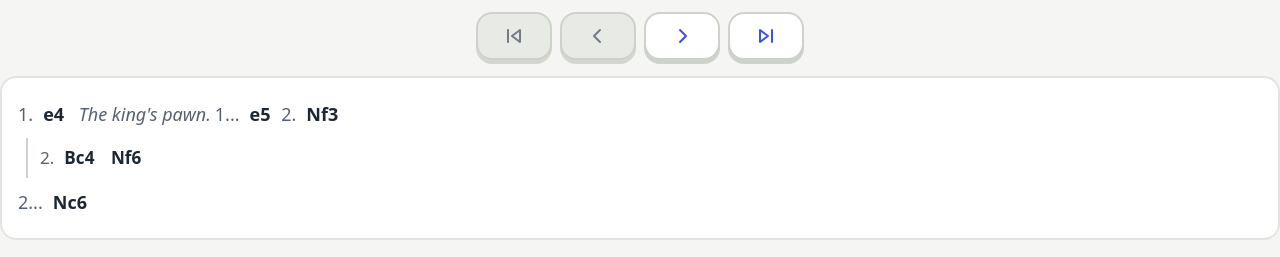
ContinuationViewer › jumps the board to a clicked move and highlights it
What coordinates should you click on to do the following:
click the button named "1. e4"
I would click on:
 (54, 114)
Its box is [37, 94, 70, 134].
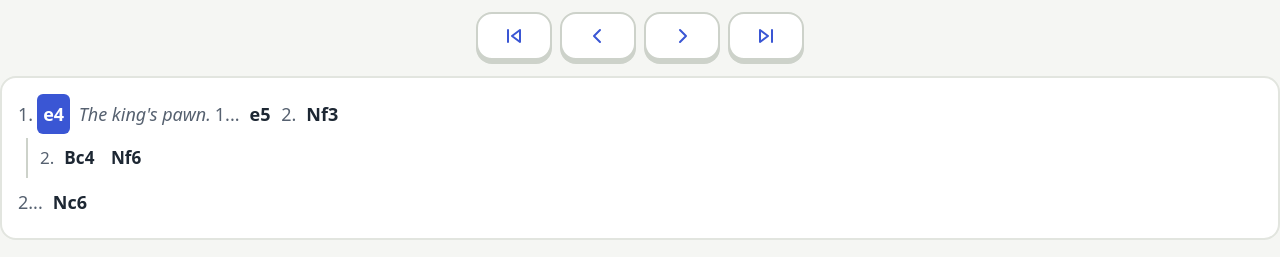
Now the button named "1. e4" is marked as current, box [37, 94, 70, 134]
